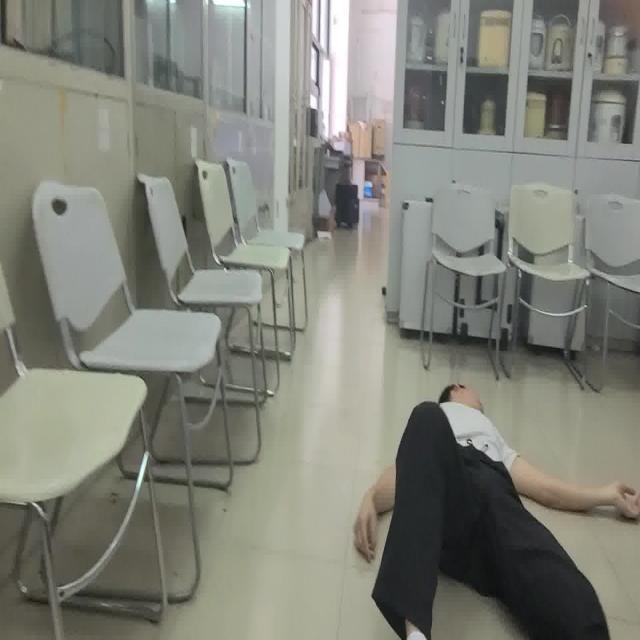fall: (351, 374, 640, 640)
